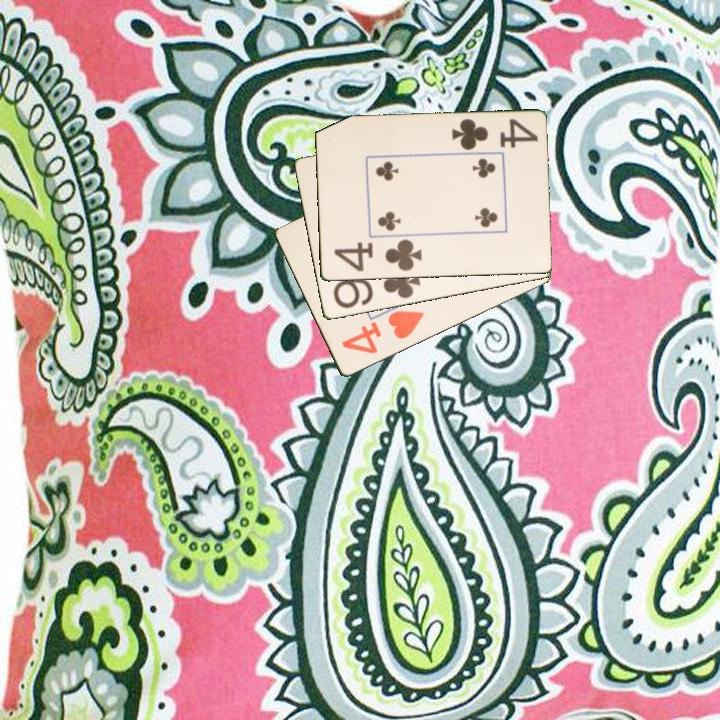4c: (330, 236, 424, 274), (448, 115, 540, 153)
4h: (338, 307, 427, 357)
9c: (329, 263, 423, 312)
